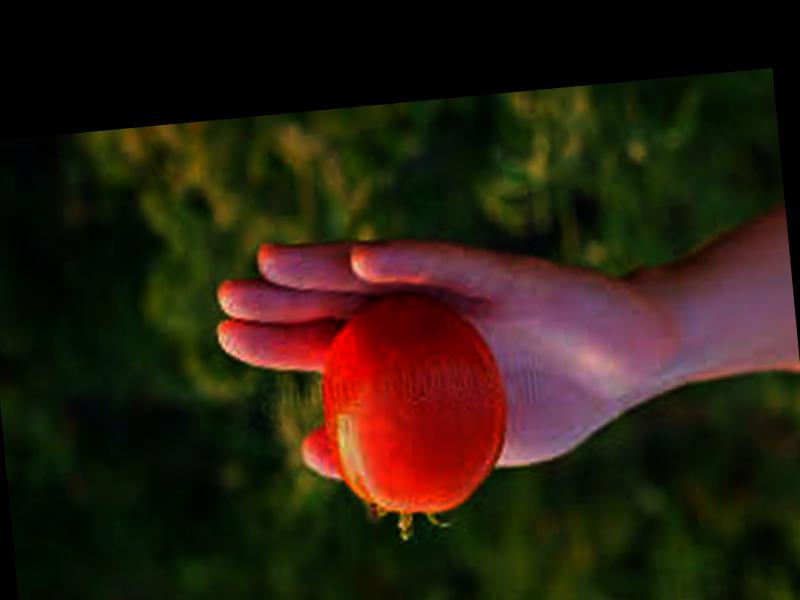Tomato: (315, 281, 512, 519)
